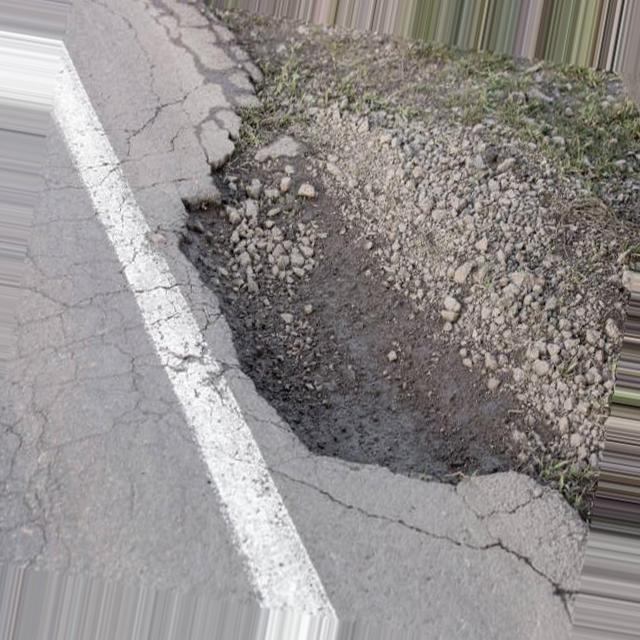Pinggir: (161, 70, 561, 496)
